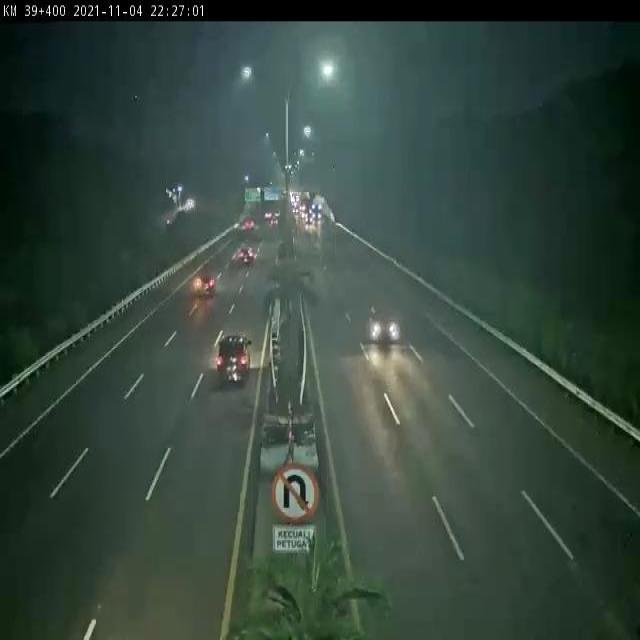car: (216, 334, 253, 382), (368, 303, 401, 341), (192, 268, 217, 300)
